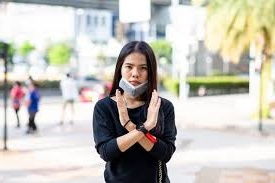mask_weared_incorrect: (117, 43, 154, 98)
